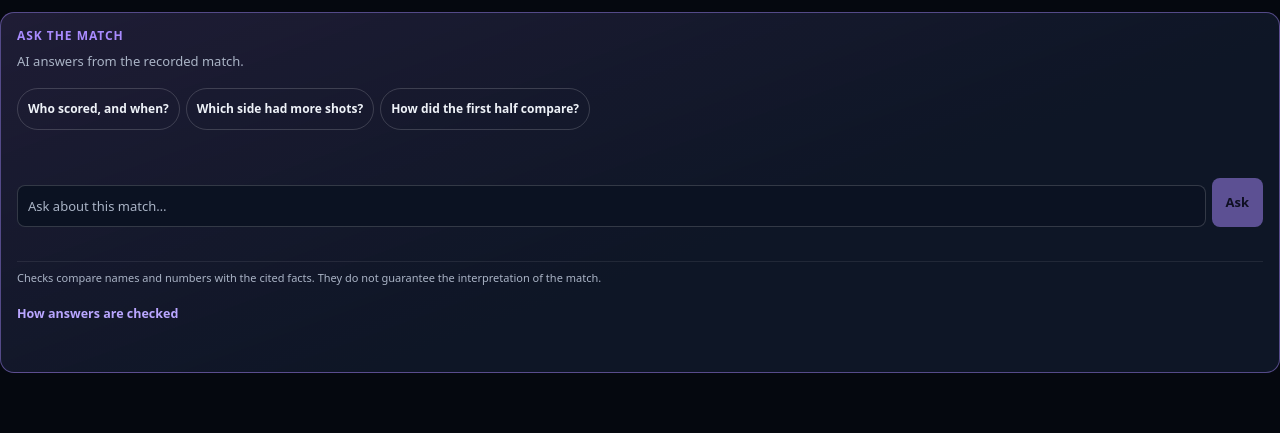
stays hidden until the match ends, then answers a suggested question with its check
Click the button "Who scored, and when?".
click(98, 108)  # box [17,88,180,130]
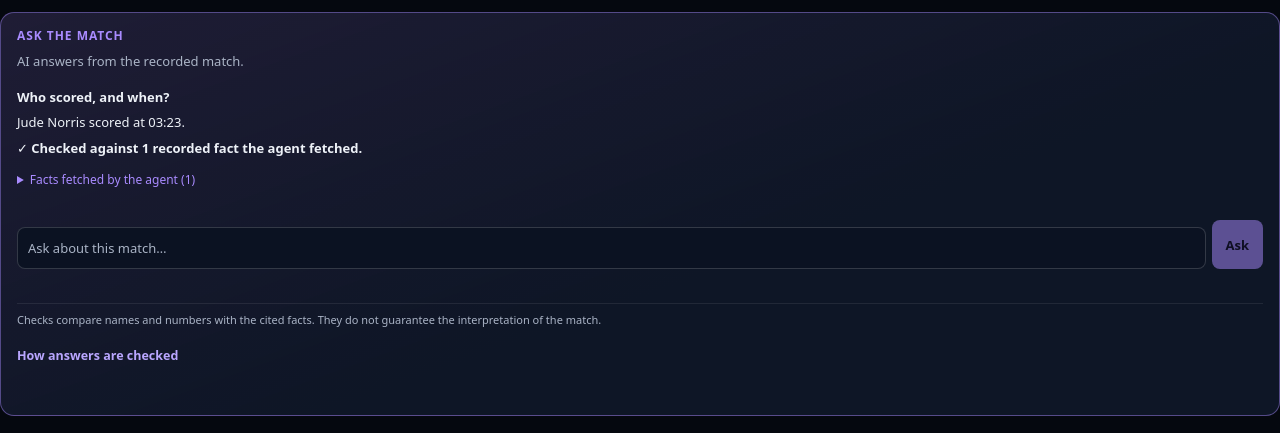
Check: the text "Jude Norris scored at 03:23." is shown, box [17,113,185,131]
Check: the text "✓ Checked against 1 recorded fact the agent fetched." is shown, box [17,138,362,156]
